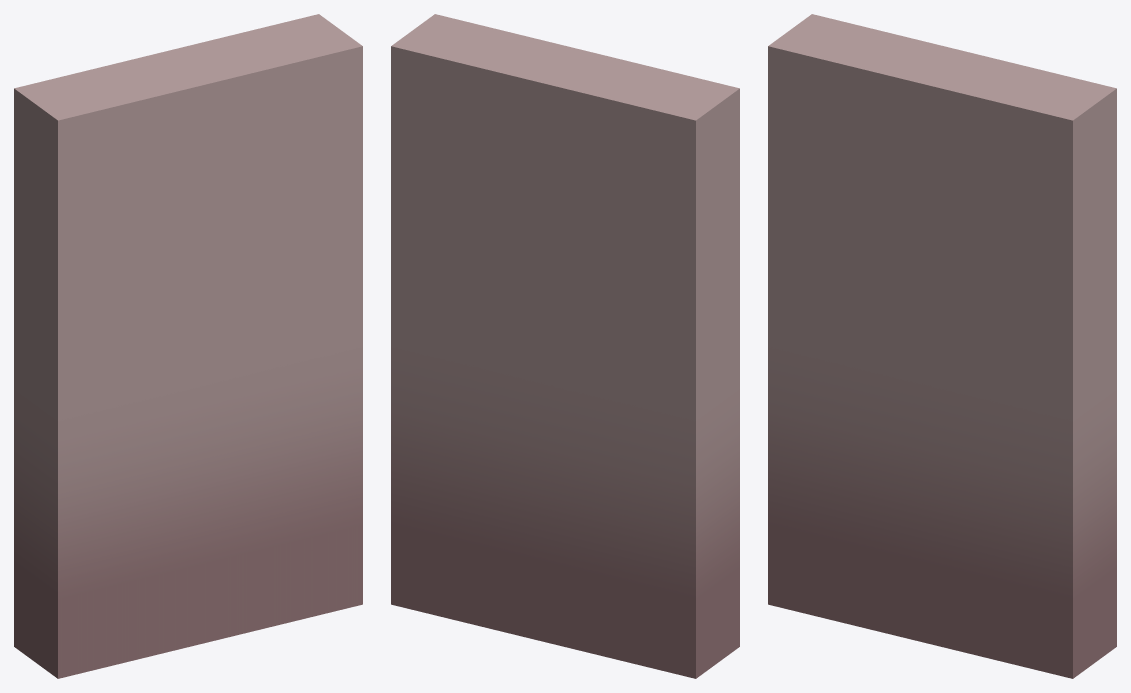
File: Wall_A.fbx
The picture shows the model from 3 angles, left to right: view 1: azimuth 30°, elevation 25°; view 2: azimuth 150°, elevation 25°; view 3: azimuth 330°, elevation 25°; orthographic projection.
Visible parts, largest first — view 1: Wall_A; view 2: Wall_A; view 3: Wall_A.
Part boxes in pixels (x1,y1,x2,y2): Wall_A: (14,14,362,678); Wall_A: (391,14,739,678); Wall_A: (768,14,1116,678).
Size of the model in its own units: 2 by 3.5 by 0.5.
1 material, 1 textured.
